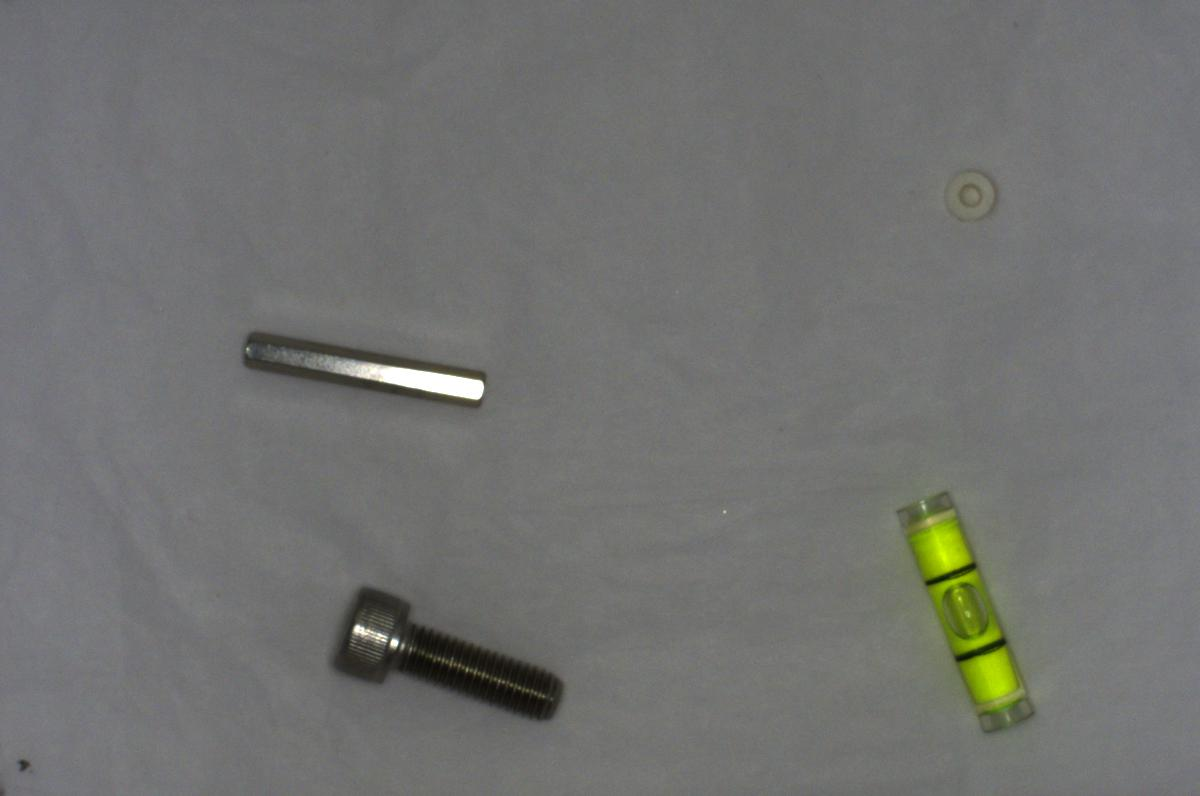Double hexagonal column: (227, 319, 497, 412)
Hexagon screw: (324, 581, 573, 730)
Horizontal bubble: (898, 487, 1039, 738)
Plastic cushion pillar: (940, 163, 1001, 223)
